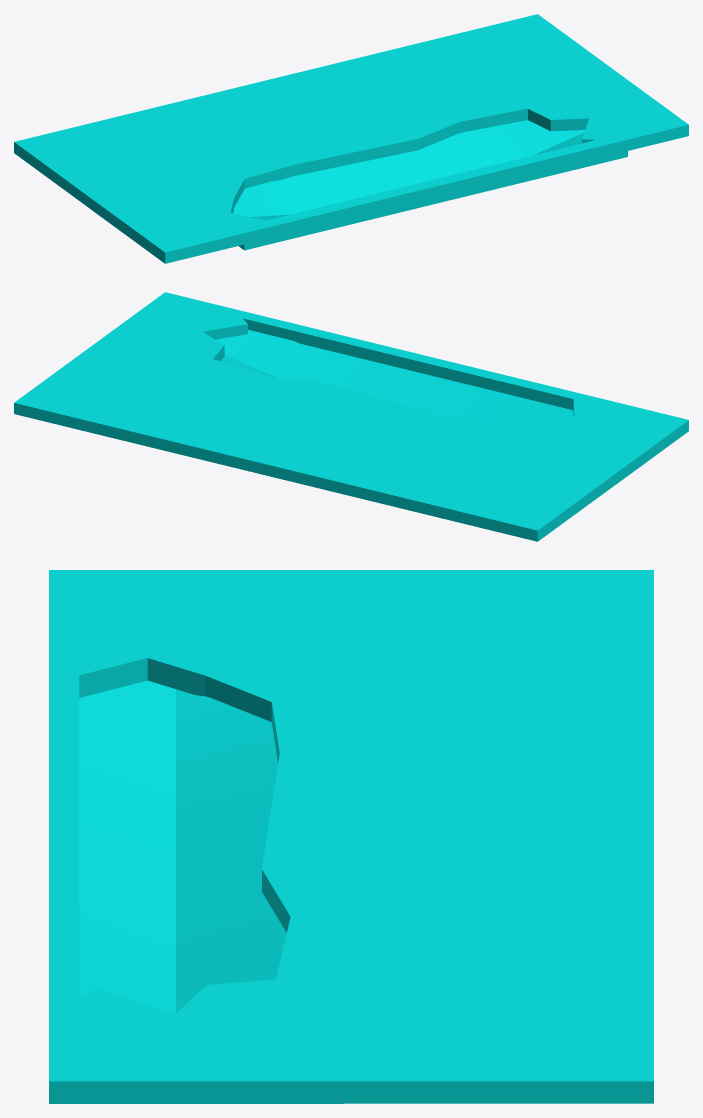
The model's file is SM_Env_Sidewalk_Edge_Damaged_01_Collision.fbx.
The picture shows the model from 3 angles, top to bottom: view 1: azimuth 30°, elevation 25°; view 2: azimuth 150°, elevation 25°; view 3: azimuth 270°, elevation 25°; orthographic projection. The views are drawn at different scales.
Parts seen in each view (by area): view 1: SM_Env_Sidewalk_Edge_Damaged_01_Collision; view 2: SM_Env_Sidewalk_Edge_Damaged_01_Collision; view 3: SM_Env_Sidewalk_Edge_Damaged_01_Collision.
Part boxes in pixels (x1,y1,x2,y2): SM_Env_Sidewalk_Edge_Damaged_01_Collision: [14, 14, 688, 263]; SM_Env_Sidewalk_Edge_Damaged_01_Collision: [14, 292, 688, 541]; SM_Env_Sidewalk_Edge_Damaged_01_Collision: [49, 570, 653, 1103].
Bounding box in the file's own units: 1000 × 71.08 × 500.
